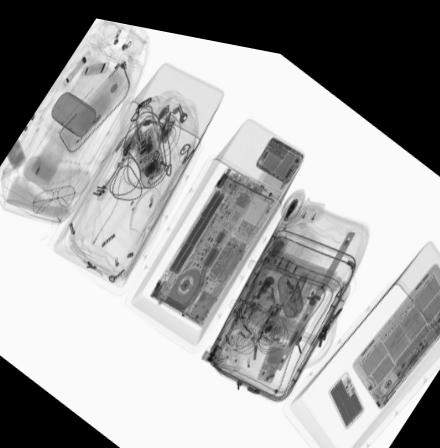Powerbank: (326, 355, 366, 418)
